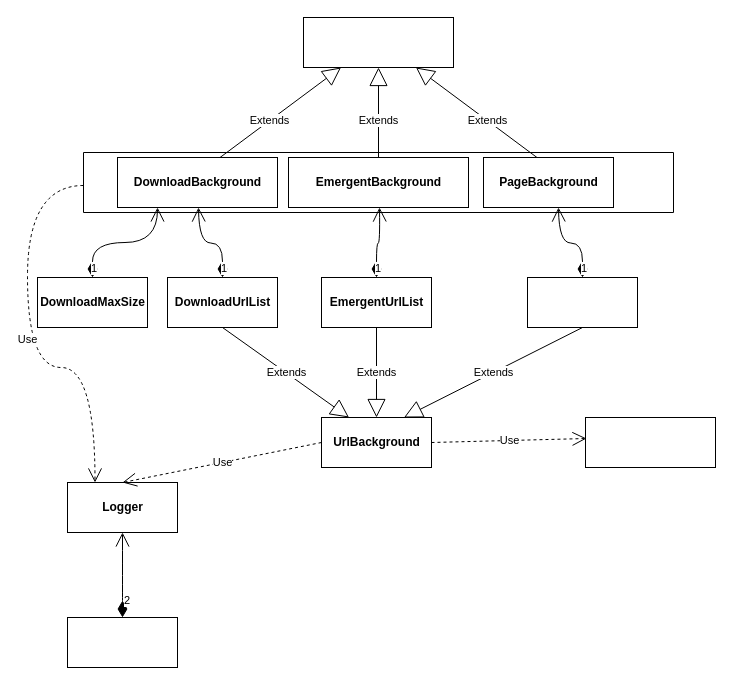
Image size: 733x685. Some labels were removed from this diagram. The box of each missing label's shape, as (x1, y1, x2, y2) in pixels:
BackgroundObject: (302, 16, 454, 68)
LoggerObj: (66, 616, 178, 668)
PageUrlList: (526, 276, 638, 328)
RemoteBackground: (584, 416, 716, 468)
